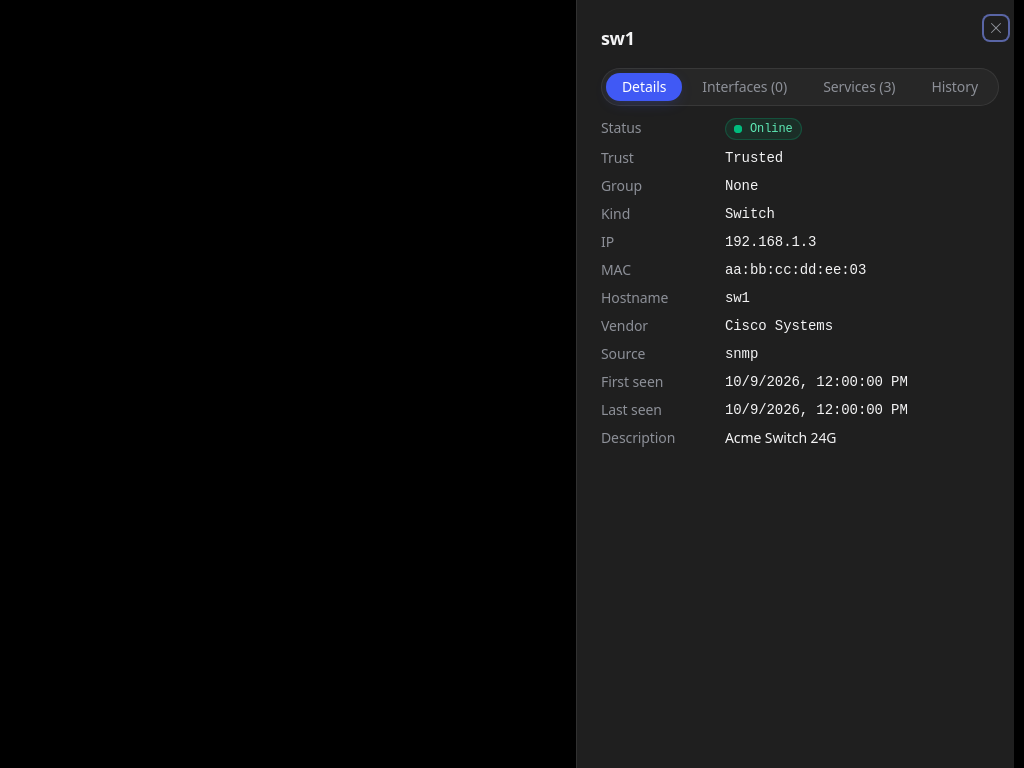
Test: DevicePanel › lists the services of the device on their own tab
The image size is (1024, 768).
Click the tab "Services (3)" at (859,87), box left=807, top=73, right=911, bottom=101
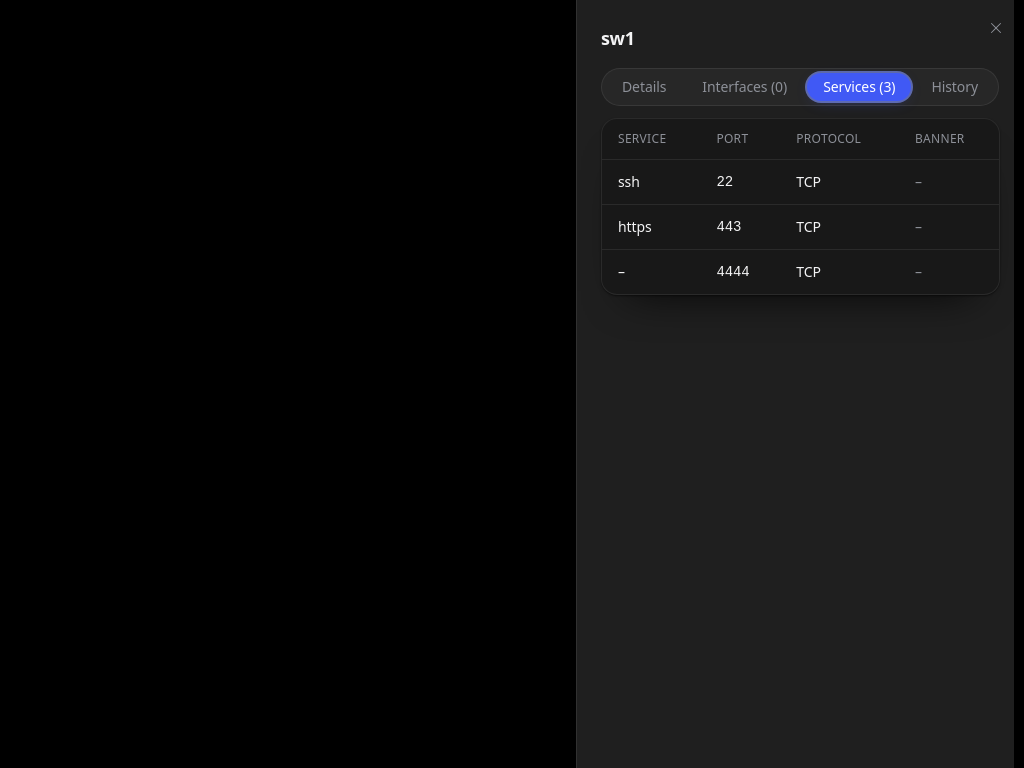
Expected: the number of rows is 4, left=602, top=119, right=999, bottom=160; left=602, top=160, right=999, bottom=204; left=602, top=204, right=999, bottom=250; left=602, top=250, right=999, bottom=294
Expected: the text "ssh" is shown, left=602, top=160, right=700, bottom=204
Expected: the text "22" is shown, left=700, top=160, right=780, bottom=204
